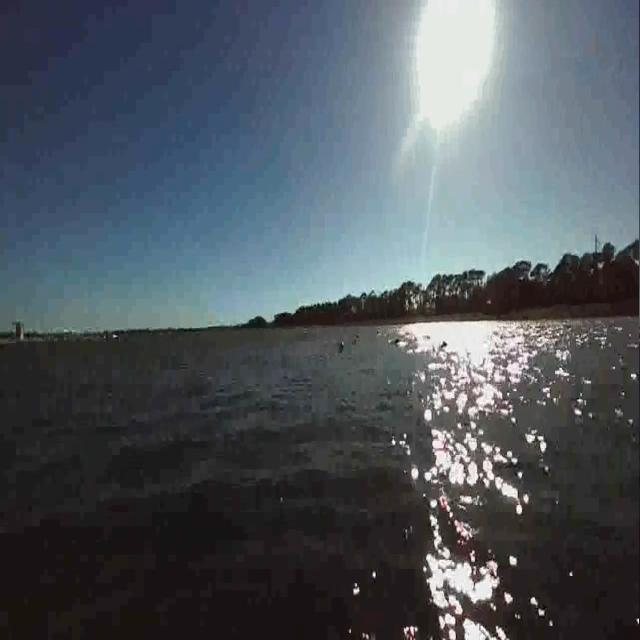black-buoy: (338, 337, 346, 353)
